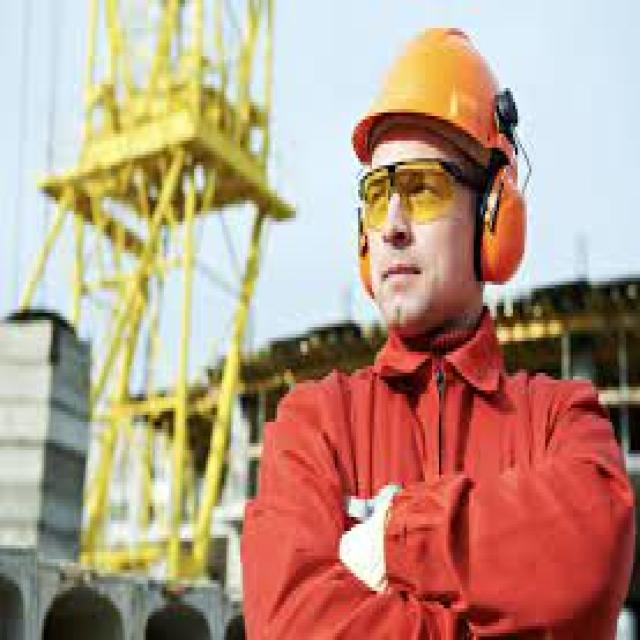glasses: (356, 152, 474, 226)
